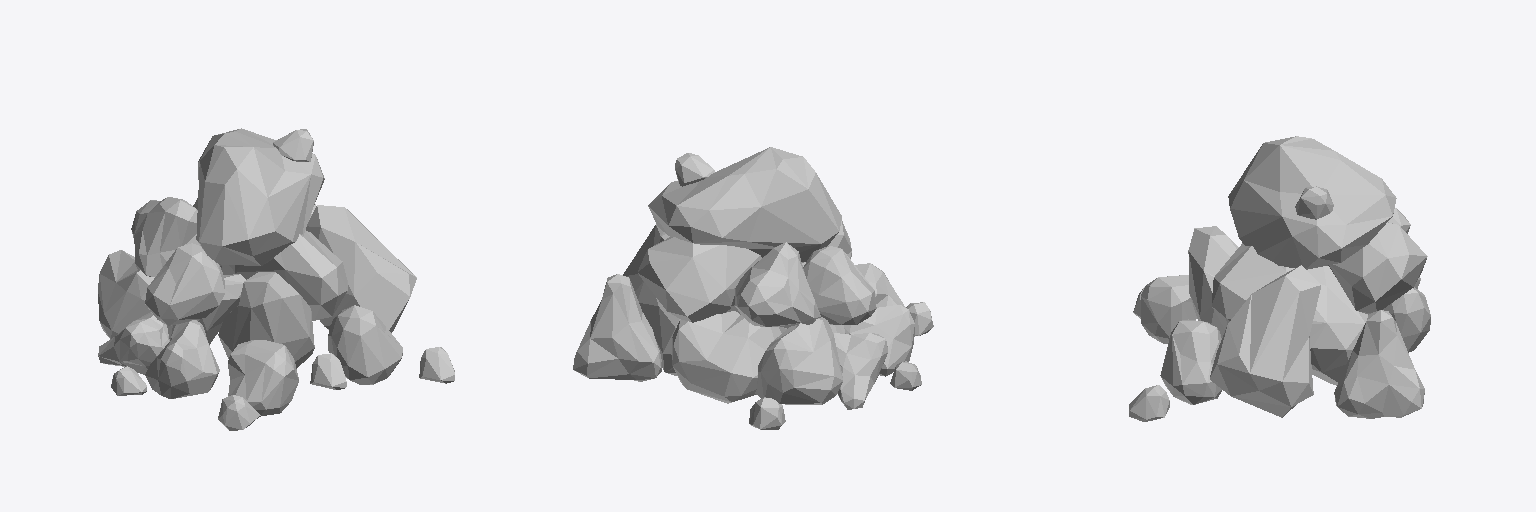
File: Stone_Chunks_Large.obj
3 renders of one model, left to right at view 1: azimuth 30°, elevation 25°; view 2: azimuth 150°, elevation 25°; view 3: azimuth 270°, elevation 25°, orthographic.
Parts seen in each view (by area): view 1: Stone_Chunks_Large; view 2: Stone_Chunks_Large; view 3: Stone_Chunks_Large.
Part boxes in pixels (x1,y1,x2,y2): Stone_Chunks_Large: (98, 128, 454, 430); Stone_Chunks_Large: (573, 147, 933, 429); Stone_Chunks_Large: (1129, 136, 1430, 421).
Bounding box in the file's own units: 1.5 × 1.08 × 1.35.